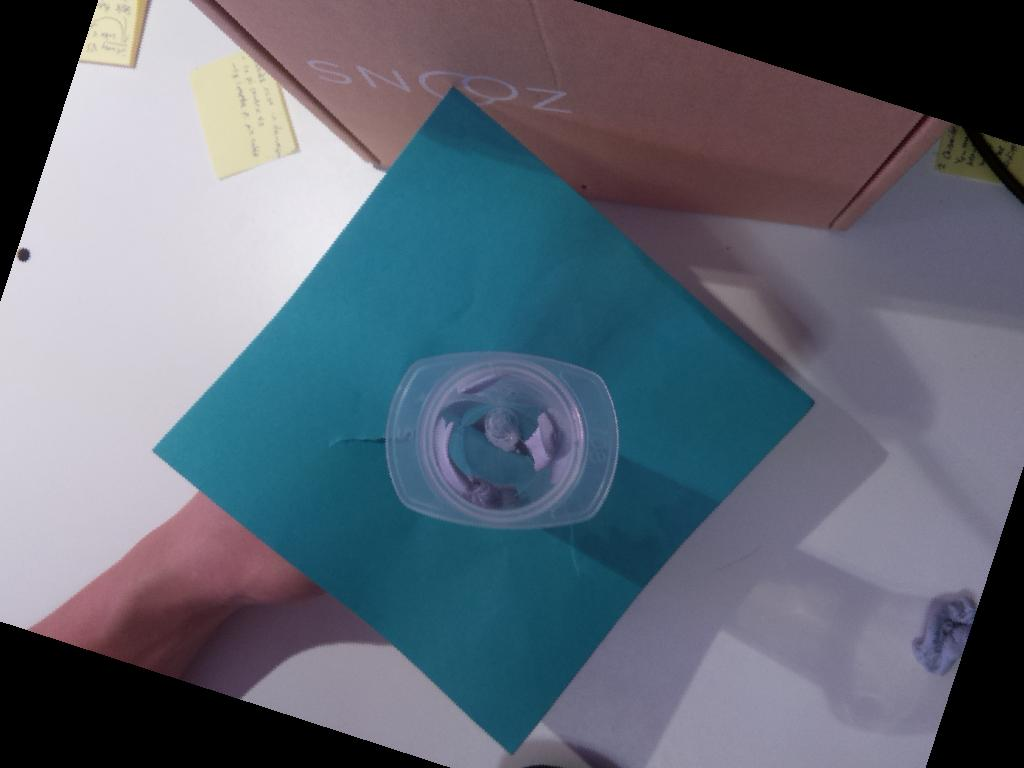dirty: (385, 352, 619, 529)
